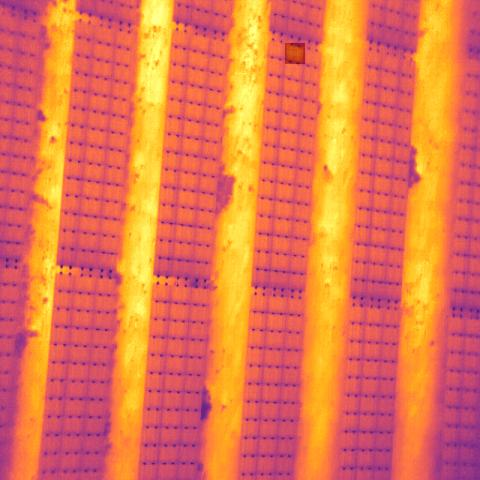fault: (285, 43, 305, 64)
